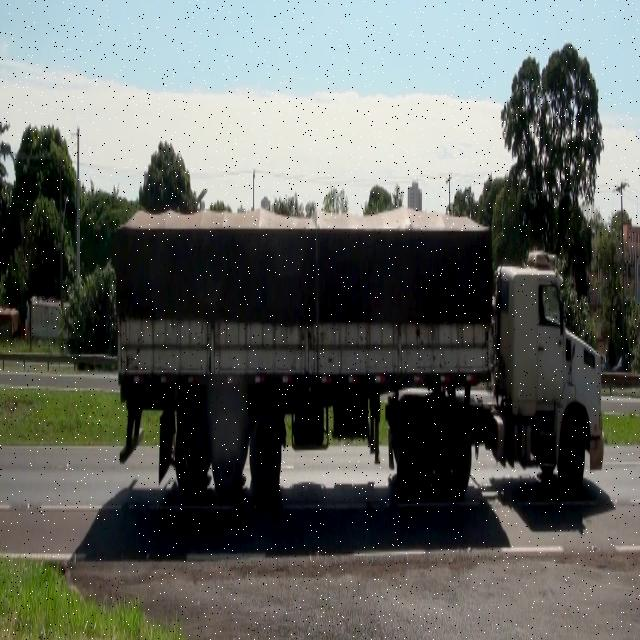-axle: (398, 410, 436, 496), (250, 403, 282, 504), (175, 404, 208, 500), (210, 400, 243, 494), (440, 410, 472, 493), (560, 407, 587, 493)
